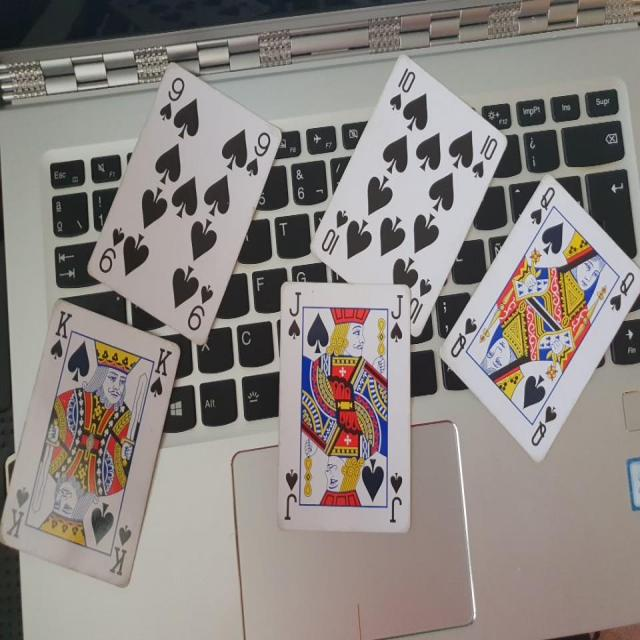10 Spades: (305, 58, 516, 364)
9 Spades: (82, 61, 279, 346)
J Spades: (274, 282, 411, 533)
K Spades: (1, 298, 185, 590)
Q Spades: (440, 166, 640, 465)
